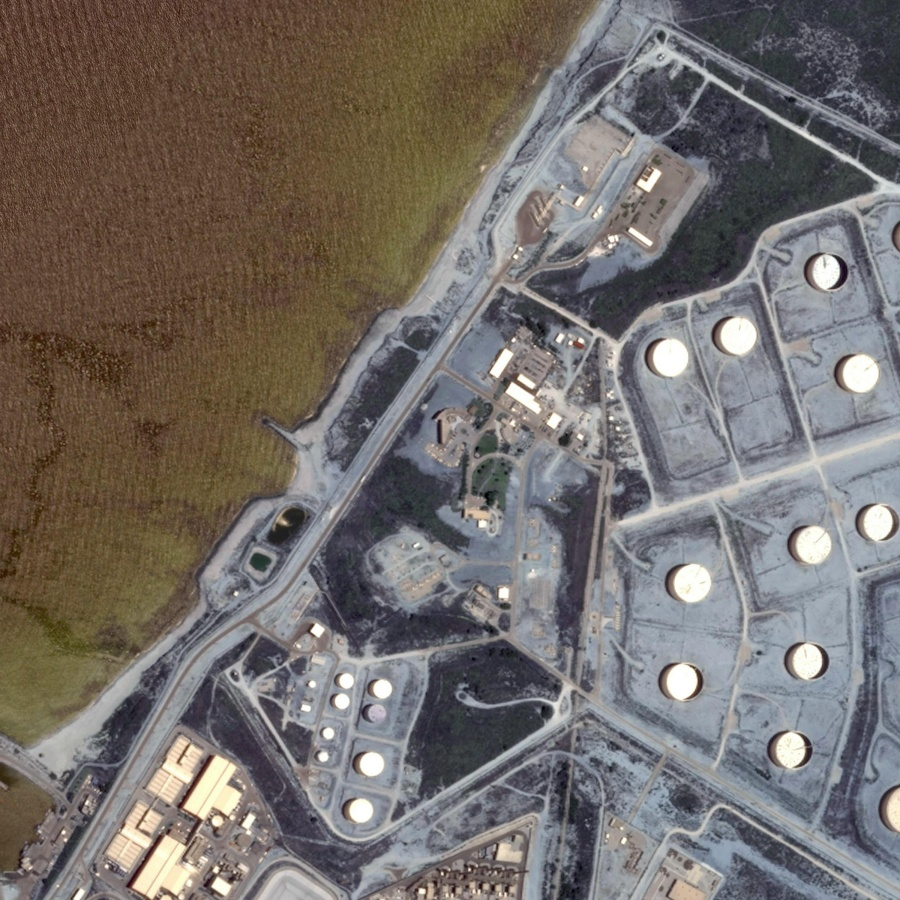PowerPlant: (232, 622, 465, 836)
